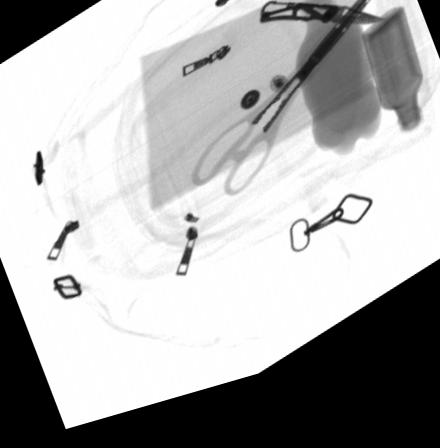Knife: (258, 16, 384, 45)
Scissors: (189, 7, 373, 209)
